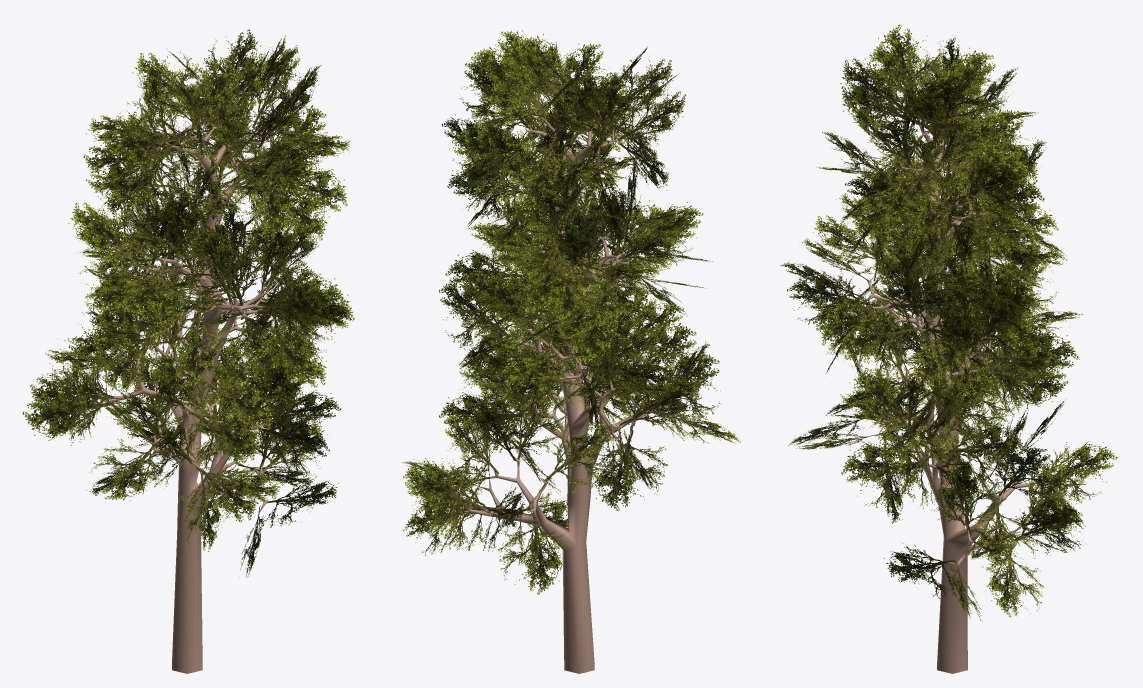
The model's file is sample_tree_3.gltf.
The picture shows the model from 3 angles, left to right: view 1: azimuth 30°, elevation 25°; view 2: azimuth 150°, elevation 25°; view 3: azimuth 270°, elevation 25°; orthographic projection.
Visible parts, largest first — view 1: mesh_1, mesh_0; view 2: mesh_1, mesh_0; view 3: mesh_1, mesh_0.
Part boxes in pixels (x1,y1,x2,y2): mesh_1: (22,29,354,577); mesh_0: (105,112,271,673); mesh_1: (402,30,740,594); mesh_0: (464,108,662,673); mesh_1: (780,24,1117,621); mesh_0: (860,115,1034,673).
Bounding box in the file's own units: 4.09 × 7.93 × 4.09.
2 materials, 1 textured.
